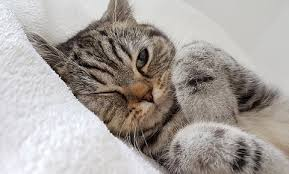Gato: (30, 1, 223, 164)
